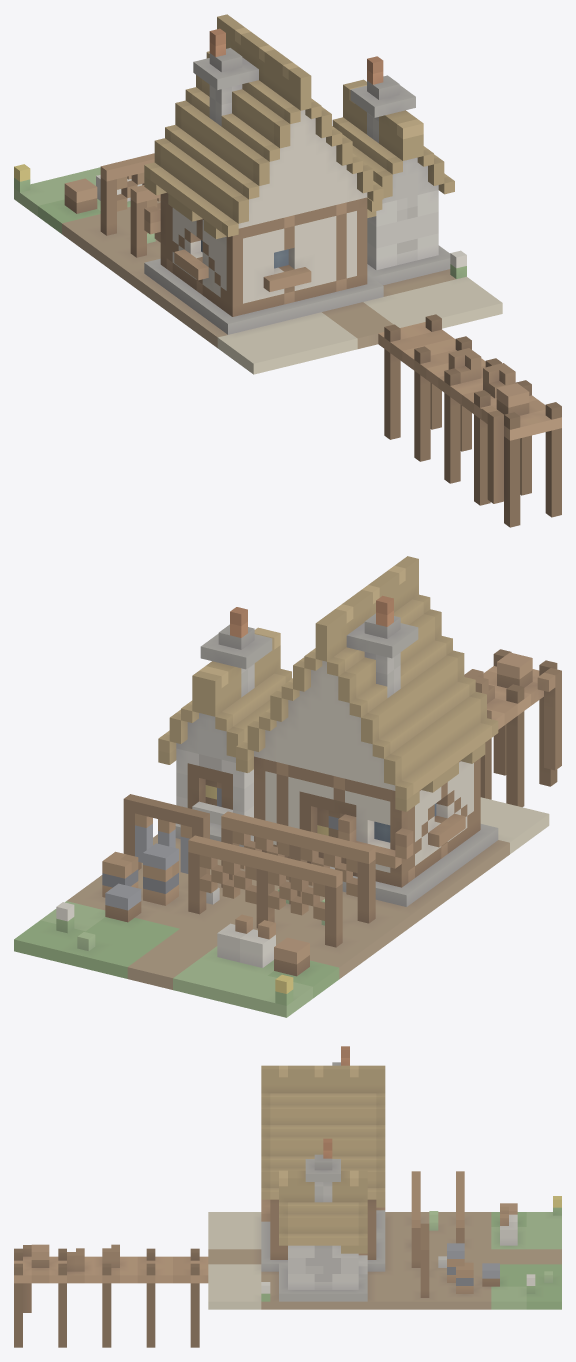
Rendered from fisher.glb.
3 renders of one model, top to bottom at view 1: azimuth 30°, elevation 25°; view 2: azimuth 150°, elevation 25°; view 3: azimuth 270°, elevation 25°, orthographic. The views are drawn at different scales.
Parts seen in each view (by area): view 1: fisher; view 2: fisher; view 3: fisher.
Boxes of the visible parts, x1=… form: fisher: x1=14, y1=14, x2=561, y2=527; fisher: x1=14, y1=556, x2=561, y2=1017; fisher: x1=14, y1=1046, x2=561, y2=1347.
Bounding box in the file's own units: 3 × 4 × 7.75.
